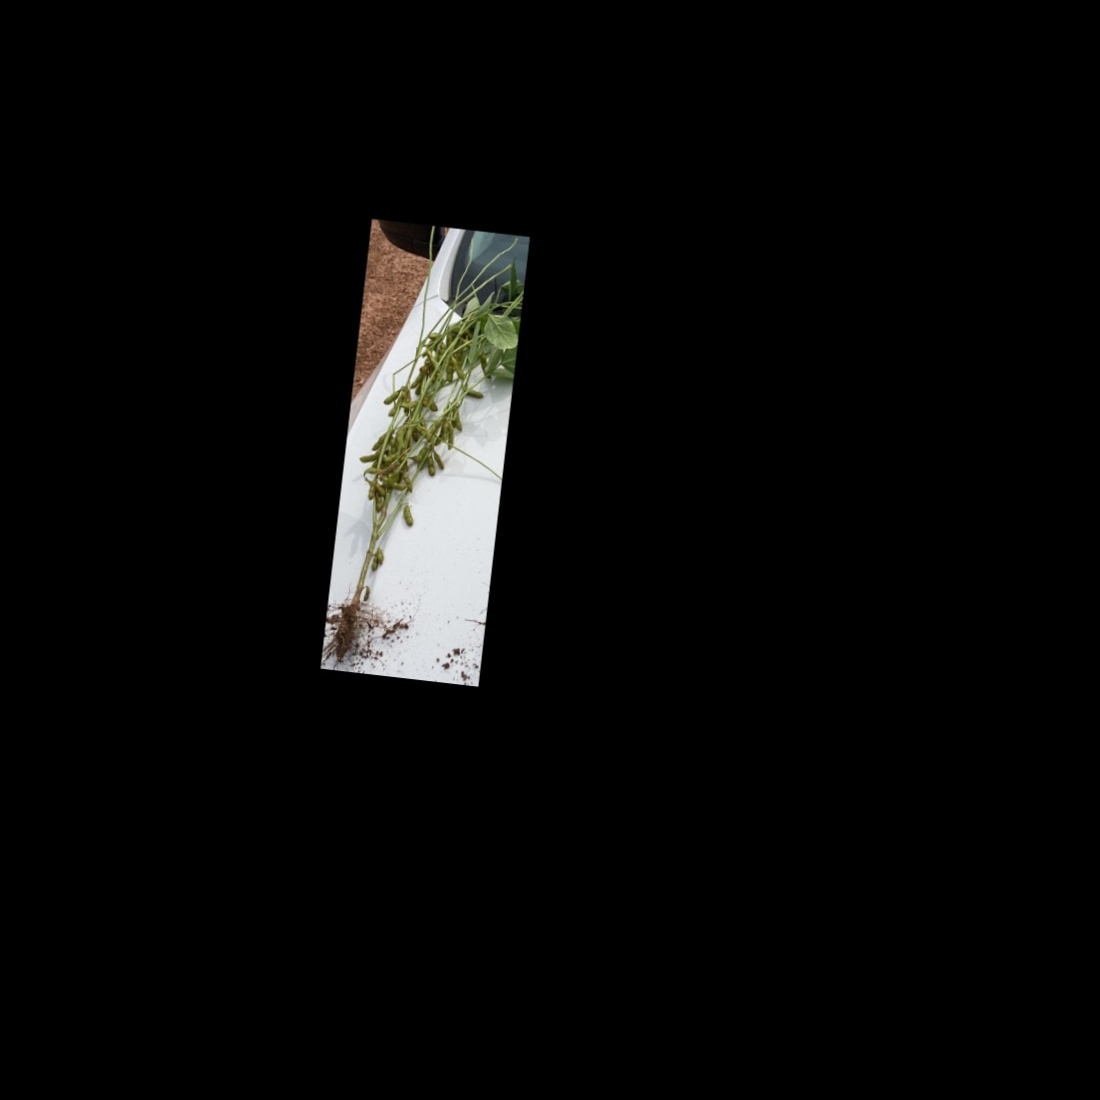pod: (395, 499, 417, 531), (446, 354, 468, 381), (380, 386, 404, 409), (427, 447, 449, 472), (422, 452, 438, 479), (400, 471, 418, 494), (411, 441, 429, 462), (463, 387, 489, 401), (444, 422, 456, 451)
soy: (325, 221, 526, 670)
